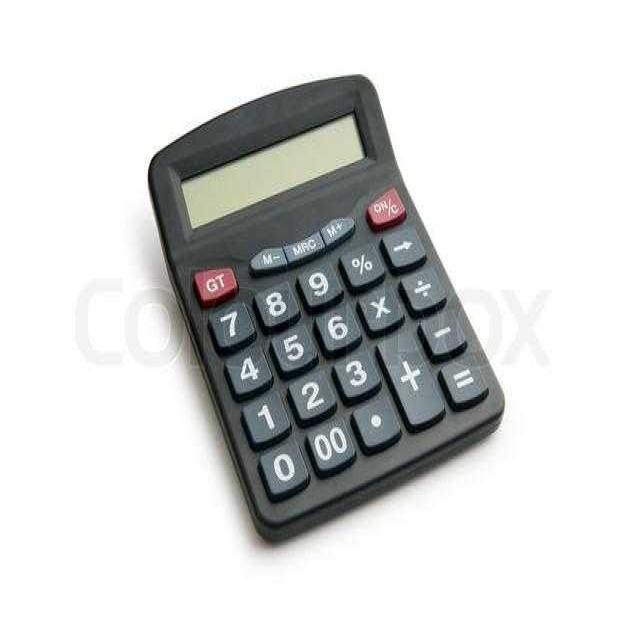Calculator: (146, 71, 505, 543)
